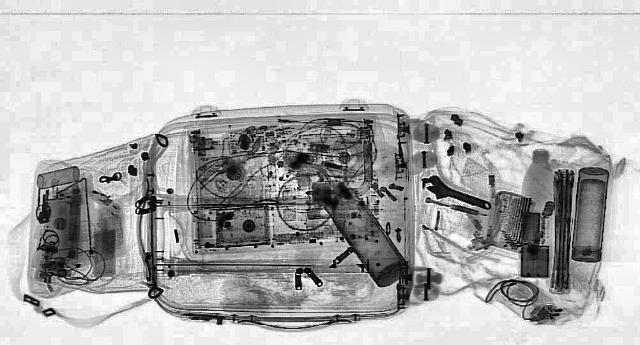Wrench: (410, 174, 502, 214)
